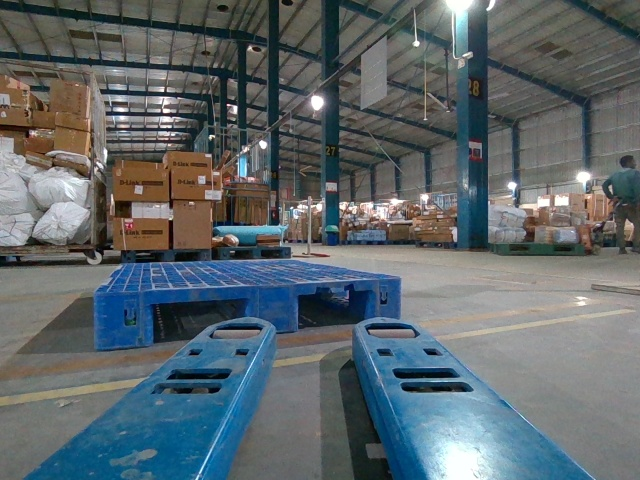pallet: (93, 276, 401, 349)
